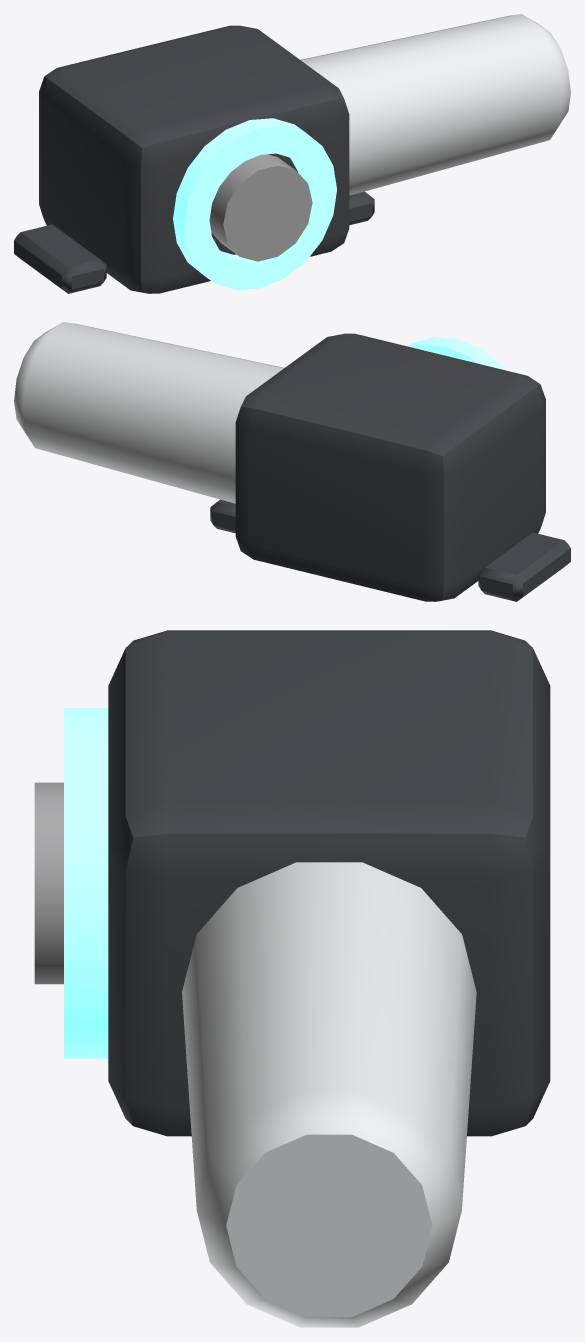
File: crawler_leg_servo.glb
3 renders of one model, top to bottom at view 1: azimuth 30°, elevation 25°; view 2: azimuth 150°, elevation 25°; view 3: azimuth 270°, elevation 25°, orthographic. The views are drawn at different scales.
Parts seen in each view (by area): view 1: body; view 2: body; view 3: body.
Part boxes in pixels (x1,y1,x2,y2): body: (14, 14, 570, 293); body: (14, 322, 570, 601); body: (34, 630, 550, 1327).
Bounding box in the file's own units: 0.159 × 0.05 × 0.07.
